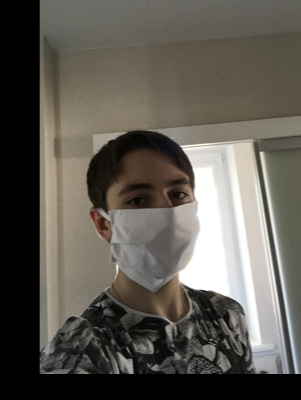with_mask: (106, 171, 199, 292)
